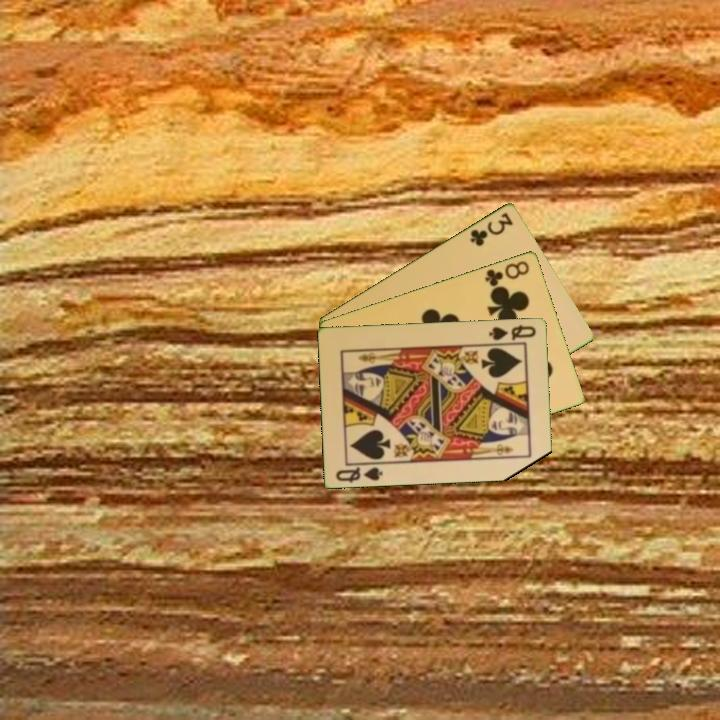3c: (466, 208, 516, 249)
8c: (481, 257, 532, 289)
Qs: (485, 321, 539, 343), (332, 463, 386, 485)
